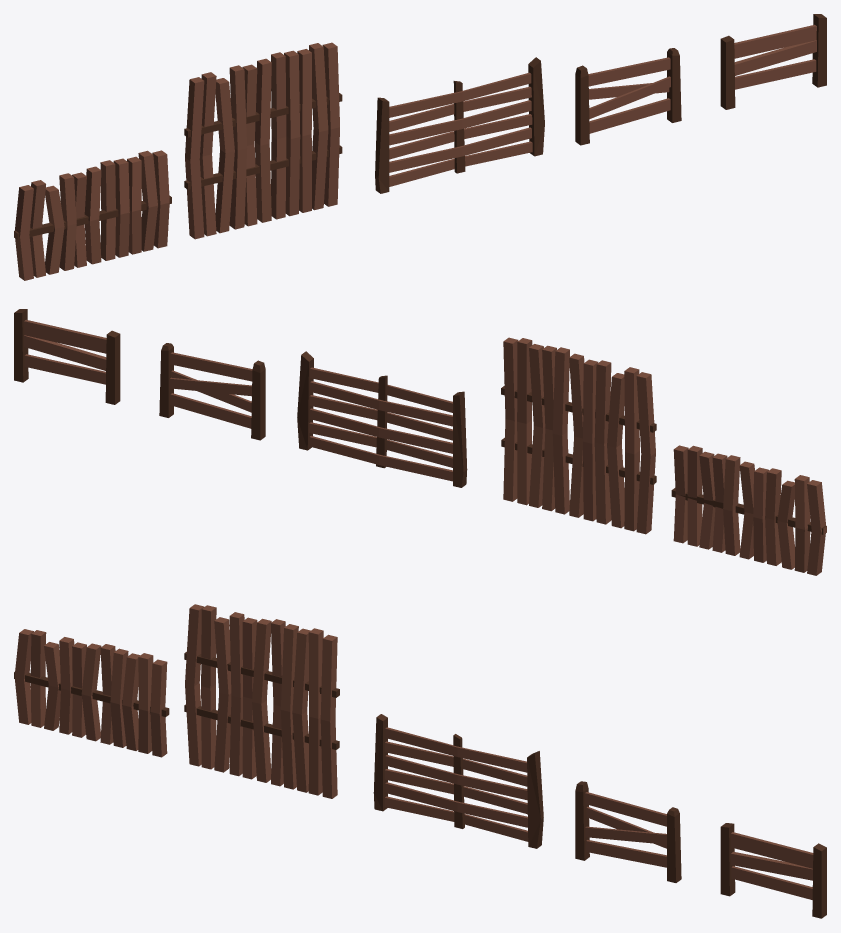
File: Fences1.fbx
3 views of the same model, one above another, from view 1: azimuth 30°, elevation 25°; view 2: azimuth 150°, elevation 25°; view 3: azimuth 330°, elevation 25° (orthographic).
Visible parts, largest first — view 1: Fence_Type 2_01, Fence_Type 2_02, Fence_Type 1_03, Fence_Type 1_02, Fence_Type 1_01; view 2: Fence_Type 2_01, Fence_Type 2_02, Fence_Type 1_03, Fence_Type 1_02, Fence_Type 1_01; view 3: Fence_Type 2_01, Fence_Type 2_02, Fence_Type 1_03, Fence_Type 1_02, Fence_Type 1_01.
Part boxes in pixels (x1,y1,x2,y2): Fence_Type 2_01: (184,42,342,239); Fence_Type 2_02: (14,150,171,280); Fence_Type 1_03: (375,57,544,193); Fence_Type 1_02: (575,48,681,145); Fence_Type 1_01: (720,14,826,109); Fence_Type 2_01: (501,337,656,534); Fence_Type 2_02: (671,445,826,575); Fence_Type 1_03: (297,351,467,487); Fence_Type 1_02: (159,343,265,440); Fence_Type 1_01: (14,309,120,404); Fence_Type 2_01: (184,604,339,798); Fence_Type 2_02: (14,629,169,757); Fence_Type 1_03: (373,714,543,848); Fence_Type 1_02: (575,781,681,882); Fence_Type 1_01: (720,823,826,918).
Bounding box in the file's own units: 913 × 174 × 18.86.
